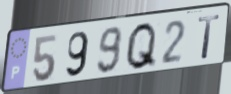2: (160, 18, 189, 67)
5: (32, 32, 59, 84)
9: (95, 24, 124, 75), (64, 29, 90, 79)
Q: (123, 21, 159, 73)
T: (197, 13, 222, 61)
